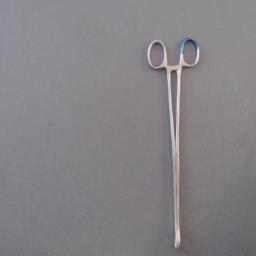Sponge Forceps: (143, 34, 203, 252)
